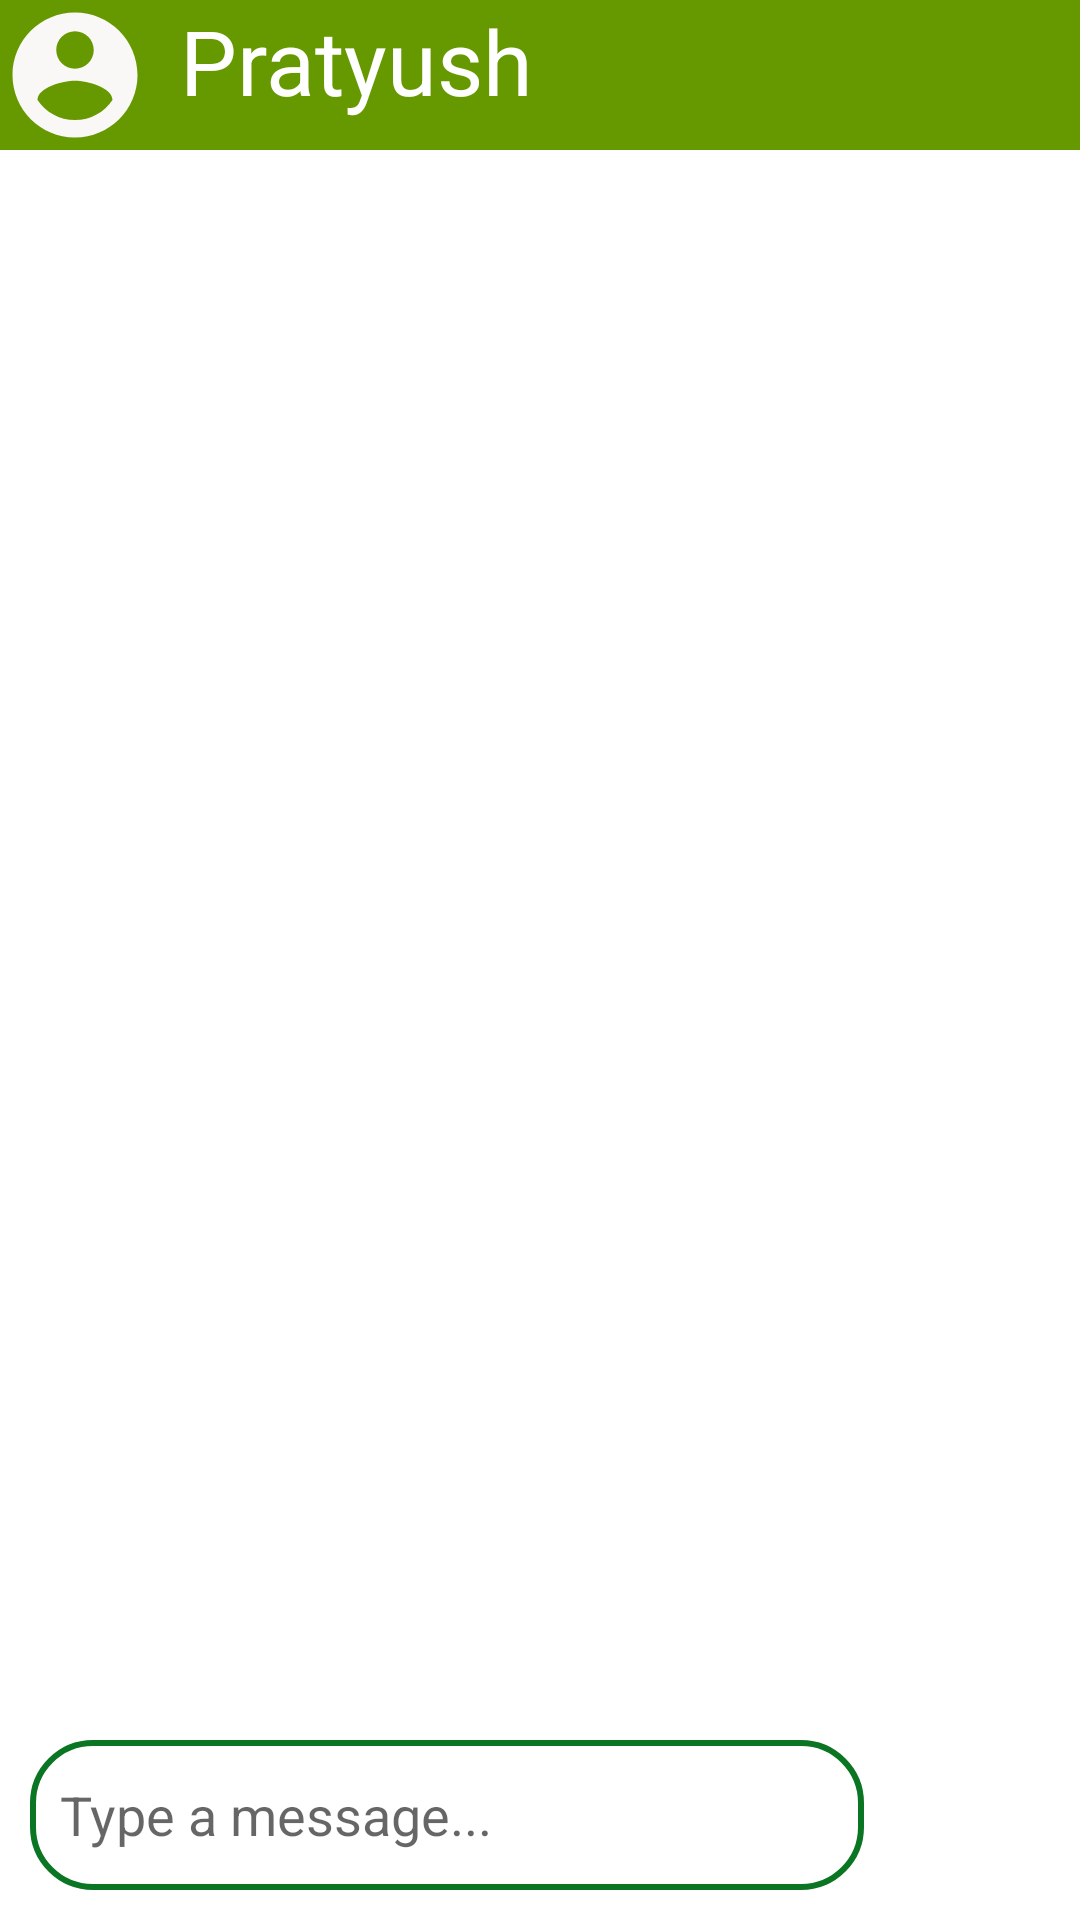

Icon click points for this 1080*1920 phone screenshot, format point (x, y):
useraccount: point (75, 75)
